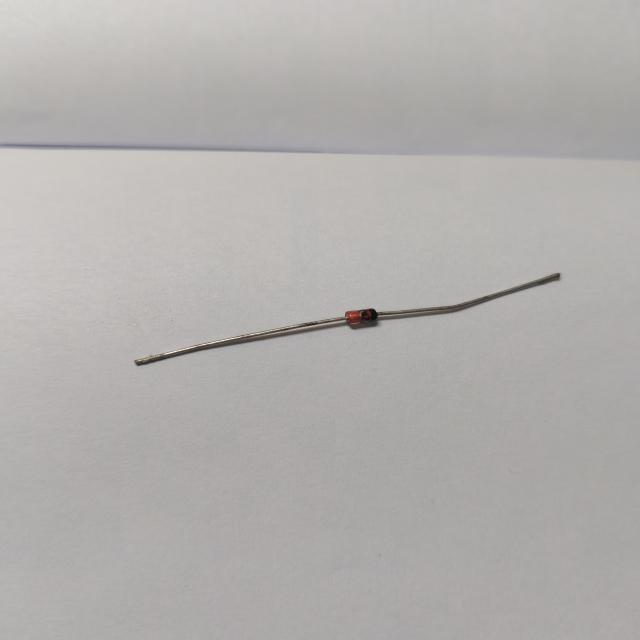resistor: (126, 261, 579, 376)
